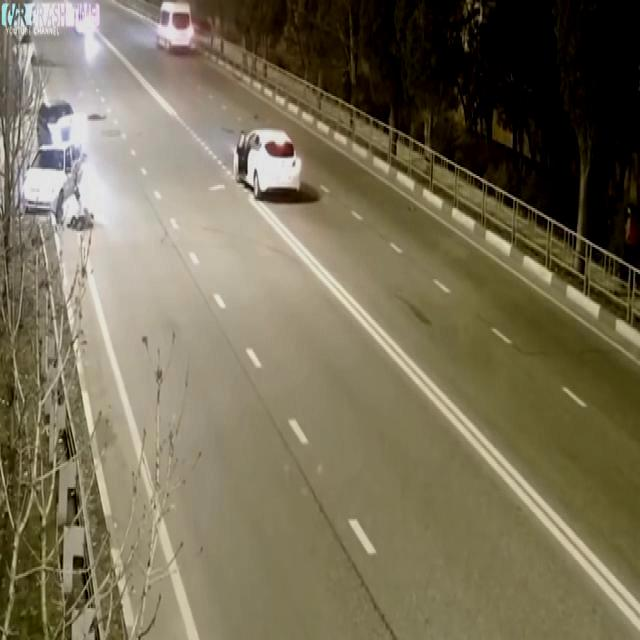accident: (14, 99, 100, 233)
